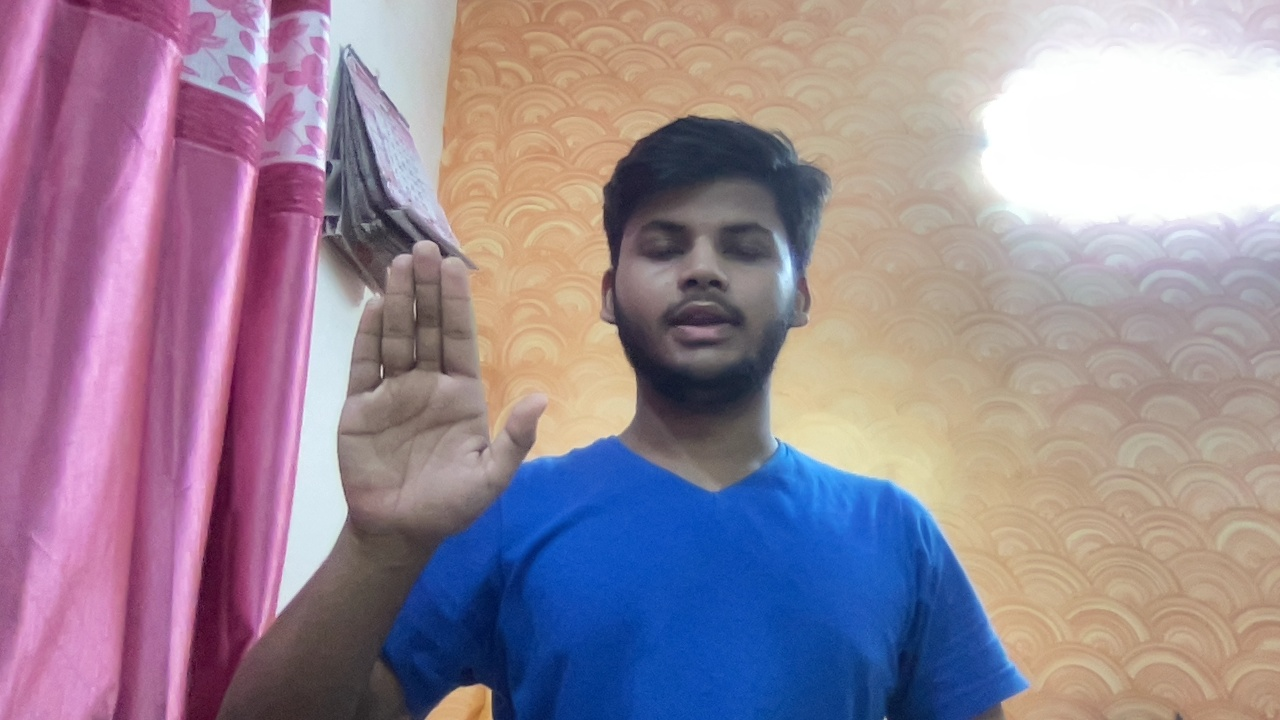hello: (289, 216, 580, 570)
